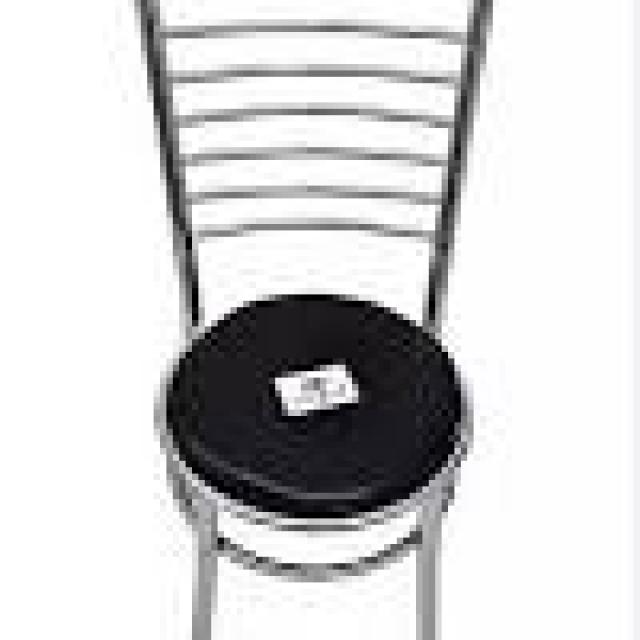chair: (52, 0, 579, 640)
